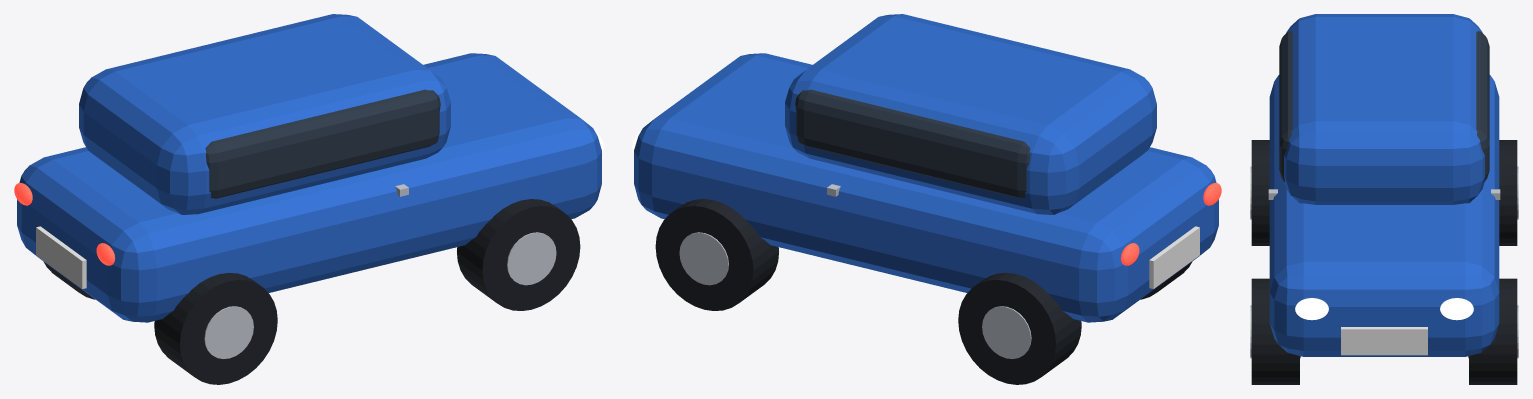
File: coche_azul.glb
The picture shows the model from 3 angles, left to right: view 1: azimuth 30°, elevation 25°; view 2: azimuth 150°, elevation 25°; view 3: azimuth 270°, elevation 25°; orthographic projection. The views are drawn at different scales.
Parts seen in each view (by area): view 1: Cube, Cube.001, Cube.002, Cylinder, Cylinder.004, Cylinder.001, Cylinder.005, placa.001; view 2: Cube, Cube.001, Cube.002, Cylinder.002, Cylinder.006, Cylinder.003, Cylinder.007, placa.001; view 3: Cube.001, Cube, Cube.002, Cylinder.004, Cylinder.006, placa, Cylinder, Cylinder.002, Sphere, Sphere.002.
Part boxes in pixels (x1=…): Cube: x1=17, y1=53, x2=601, y2=322; Cube.001: x1=79, y1=14, x2=450, y2=214; Cube.002: x1=205, y1=89, x2=440, y2=198; Cylinder: x1=154, y1=273, x2=277, y2=384; Cylinder.004: x1=457, y1=199, x2=580, y2=310; Cylinder.001: x1=204, y1=306, x2=253, y2=358; Cylinder.005: x1=507, y1=232, x2=556, y2=285; placa.001: x1=36, y1=226, x2=86, y2=288; Cube: x1=634, y1=53, x2=1218, y2=322; Cube.001: x1=785, y1=14, x2=1156, y2=214; Cube.002: x1=795, y1=89, x2=1030, y2=198; Cylinder.002: x1=958, y1=273, x2=1081, y2=384; Cylinder.006: x1=655, y1=199, x2=778, y2=310; Cylinder.003: x1=982, y1=306, x2=1031, y2=358; Cylinder.007: x1=679, y1=232, x2=728, y2=285; placa.001: x1=1149, y1=226, x2=1199, y2=288; Cube.001: x1=1284, y1=14, x2=1484, y2=204; Cube: x1=1269, y1=75, x2=1499, y2=356; Cube.002: x1=1279, y1=31, x2=1489, y2=181; Cylinder.004: x1=1251, y1=278, x2=1299, y2=384; Cylinder.006: x1=1469, y1=278, x2=1517, y2=384; placa: x1=1341, y1=327, x2=1427, y2=355; Cylinder: x1=1251, y1=140, x2=1269, y2=245; Cylinder.002: x1=1499, y1=140, x2=1517, y2=245; Sphere: x1=1295, y1=298, x2=1328, y2=320; Sphere.002: x1=1440, y1=298, x2=1473, y2=320.
Size of the model in its own units: 2.25 by 1.01 by 1.11.
